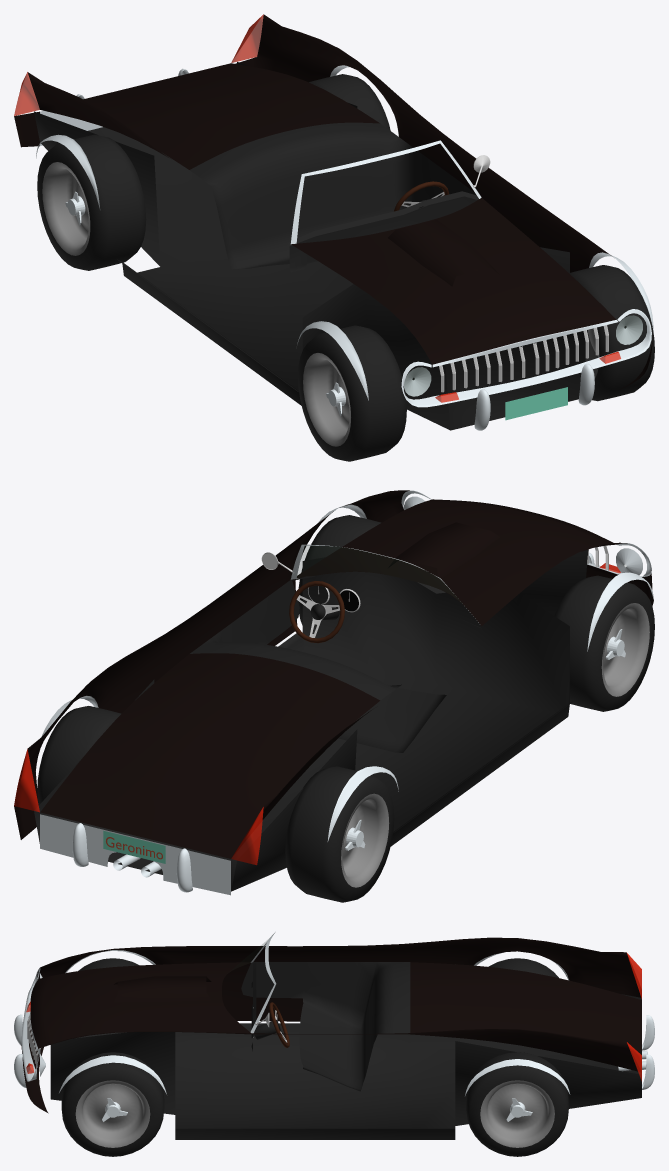
Rendered from 59 Geronimo.glb.
The picture shows the model from 3 angles, top to bottom: view 1: azimuth 30°, elevation 25°; view 2: azimuth 150°, elevation 25°; view 3: azimuth 270°, elevation 25°; orthographic projection. The views are drawn at different scales.
Visible parts, largest first — view 1: heck, floor, hood, Pneu, fender r, rim, intake, board, Plane, Cone, hood.001, Plate (+2 smaller); view 2: heck, floor, fender r, Pneu, hood, rim, hood.001, intake, Plate link, bump r, Nardi, central nut (+2 smaller); view 3: floor, heck, fender r, hood, Pneu, rim, intake, bump r, central nut, hood.001, bump, Nardi (+1 smaller).
Part boxes in pixels (x1,y1,x2,y2): heck: (83,63,476,269); floor: (34,62,587,430); hood: (291,197,618,367); Pneu: (37,74,654,461); fender r: (14,14,653,407); rim: (42,162,599,446); intake: (388,220,499,286); board: (288,191,478,272); Plane: (439,325,608,392); Cone: (404,315,642,396); hood.001: (290,140,481,244); Plate: (505,387,567,420); heck: (40,579,446,858); floor: (34,549,588,891); fender r: (14,490,653,895); Pneu: (37,515,654,902); hood: (296,499,617,626); rim: (341,603,649,887); hood.001: (290,544,478,622); intake: (388,522,499,580); Plate link: (103,830,165,863); bump r: (72,823,192,892); Nardi: (289,581,344,643); central nut: (345,629,625,850); floor: (50,964,641,1139); heck: (241,962,641,1091); fender r: (21,937,641,1113); hood: (30,962,250,1049); Pneu: (61,958,568,1156); rim: (75,1080,554,1147); intake: (113,976,211,1002); bump r: (642,1015,654,1089); central nut: (102,1098,532,1121); hood.001: (233,932,276,1033); bump: (14,1014,26,1087); Nardi: (269,1002,289,1047).
Bounding box in the file's own units: 1.74 × 1.06 × 4.12.
